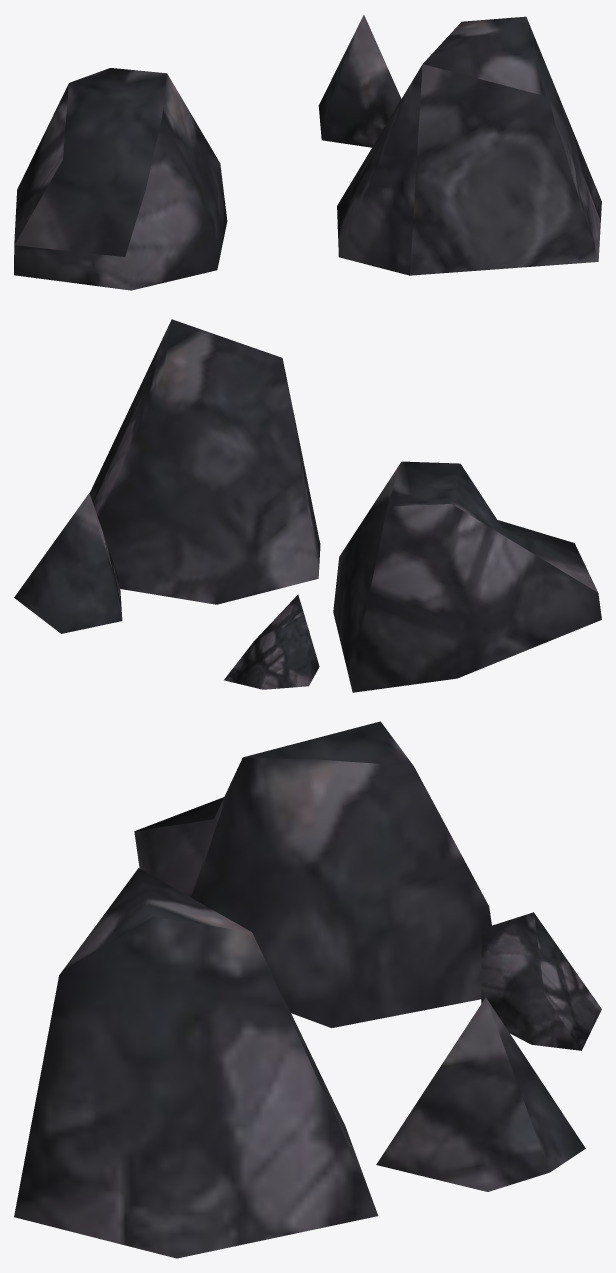
Rendered from BOSS_Stone_05.FBX.
3 views of the same model, one above another, from view 1: azimuth 30°, elevation 25°; view 2: azimuth 150°, elevation 25°; view 3: azimuth 270°, elevation 25° (orthographic). The views are drawn at different scales.
Parts seen in each view (by area): view 1: BOSS_Stone_05; view 2: BOSS_Stone_05; view 3: BOSS_Stone_05.
Boxes of the visible parts, x1=… form: BOSS_Stone_05: x1=14, y1=15, x2=601, y2=290; BOSS_Stone_05: x1=14, y1=319, x2=601, y2=692; BOSS_Stone_05: x1=14, y1=721, x2=601, y2=1258.
Size of the model in its own units: 2.56 by 0.9259 by 1.72.
